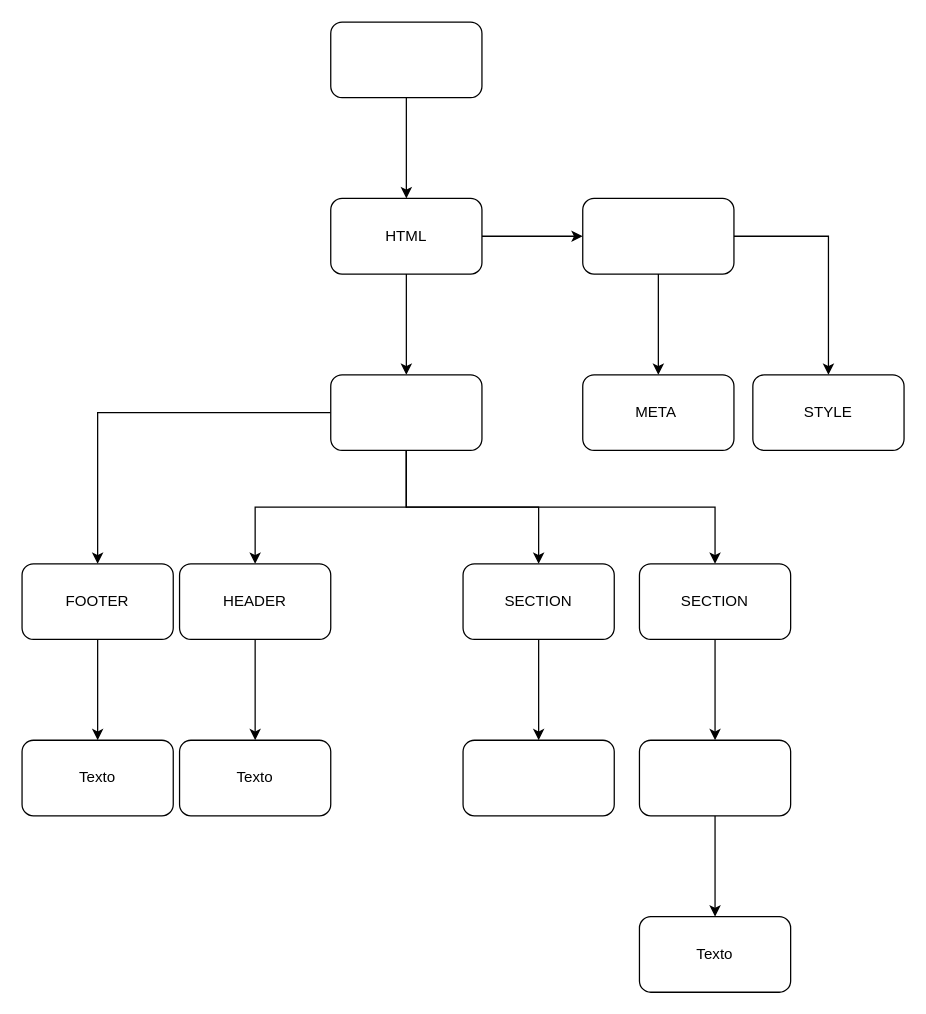
The diagram is 926 pixels wide and 1014 high, and some of its shapes have lost their labels. The shapes that lost their labels are listed below. From the top down, each one's box as (x1, y1, x2, y2) in pixels, then its label:
(329, 21, 482, 98): Doctype
(581, 197, 734, 274): HEAD
(329, 374, 482, 450): BODY
(462, 739, 614, 816): Imágen
(638, 739, 791, 816): FORM
